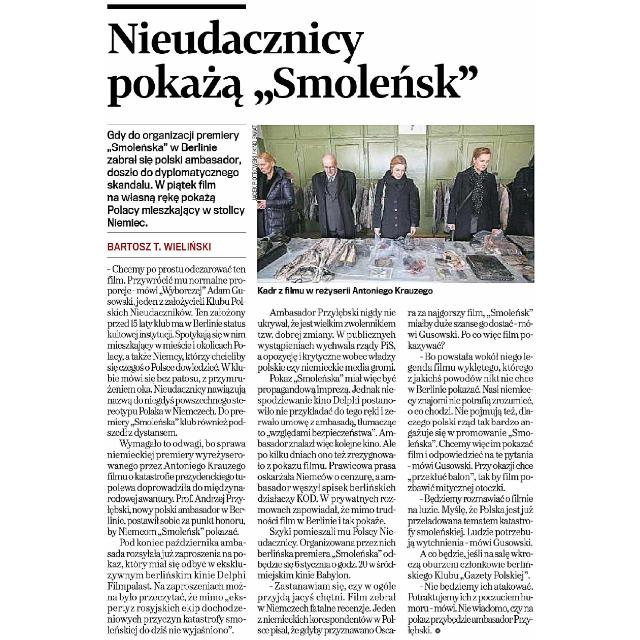author: (105, 237, 218, 255)
body: (105, 263, 249, 637), (254, 306, 398, 636), (402, 306, 536, 636)
caption: (255, 285, 435, 299)
image: (254, 122, 536, 286)
lead: (104, 128, 248, 228)
title: (106, 15, 484, 114)
